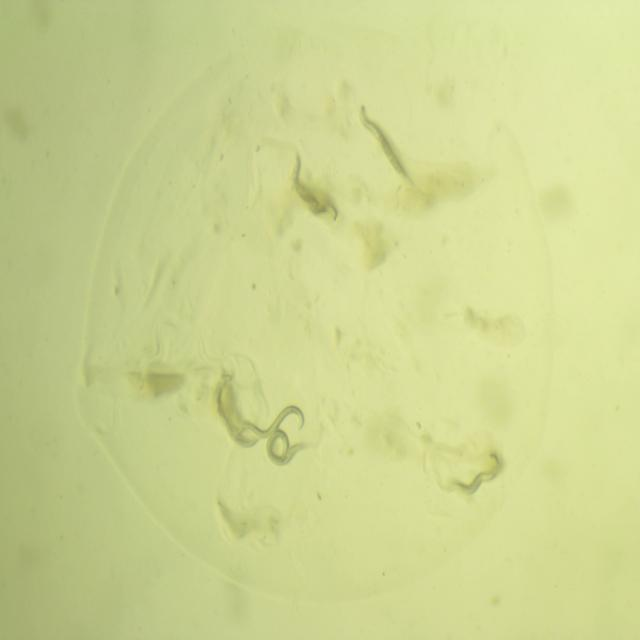worm: (345, 99, 421, 199), (282, 140, 348, 227), (208, 364, 267, 452), (439, 440, 513, 508), (227, 398, 313, 451), (261, 421, 316, 472)
